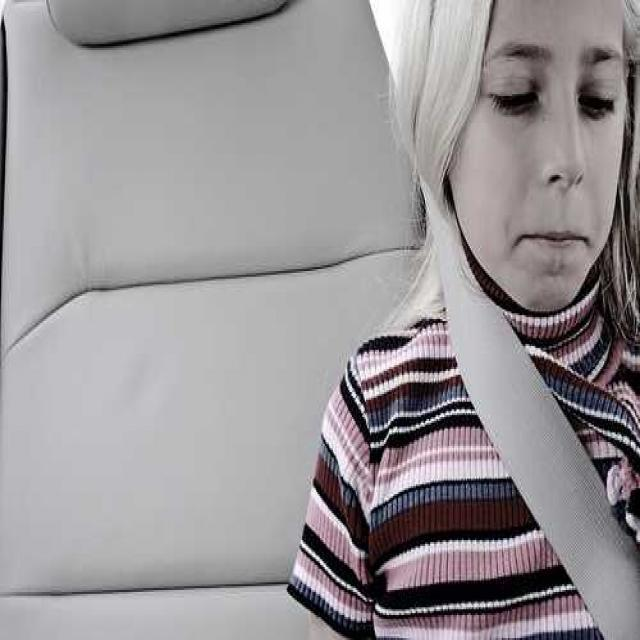seatbelt: (412, 167, 620, 604)
